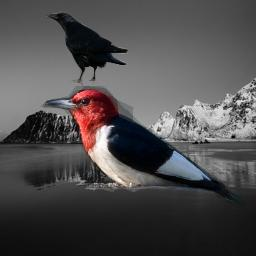Crow: (45, 11, 128, 87)
Woodpecker: (40, 86, 246, 210)
